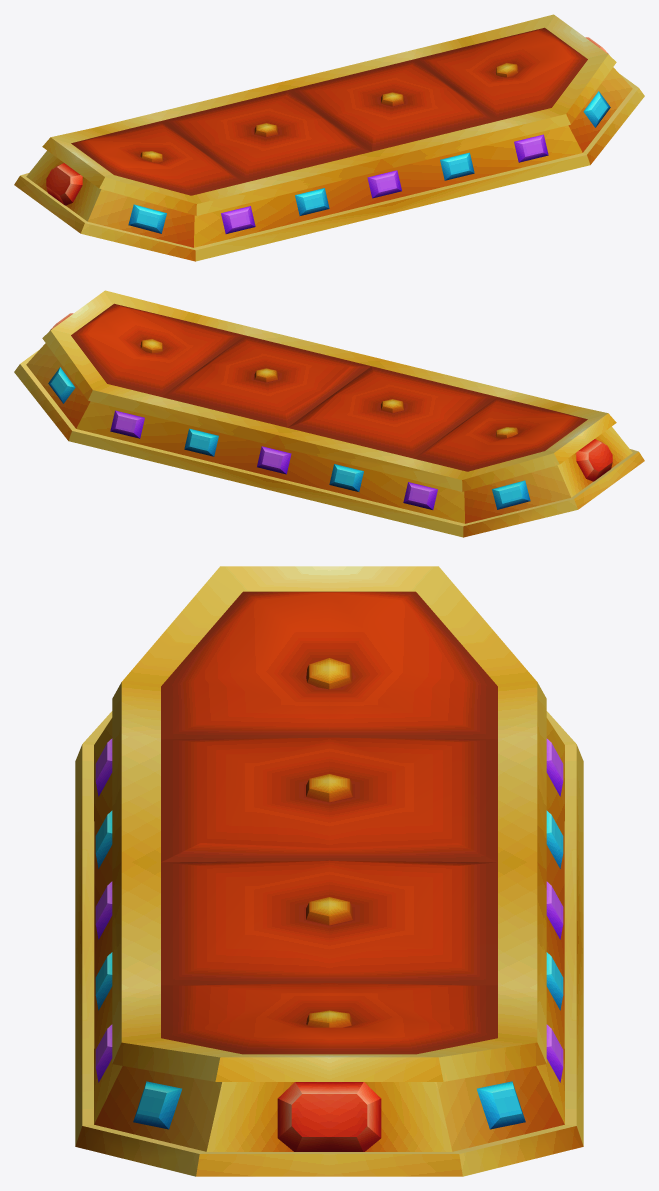
File: arabiaBoard02.glb
The picture shows the model from 3 angles, top to bottom: view 1: azimuth 30°, elevation 25°; view 2: azimuth 150°, elevation 25°; view 3: azimuth 270°, elevation 25°; orthographic projection. The views are drawn at different scales.
Parts seen in each view (by area): view 1: arabiaBoard02; view 2: arabiaBoard02; view 3: arabiaBoard02.
Boxes of the visible parts, x1,y1,x2,y2 form: arabiaBoard02: (14,14,644,261); arabiaBoard02: (14,290,644,537); arabiaBoard02: (75,566,583,1176).
Size of the model in its own units: 9.3 by 1.12 by 3.63.
1 material, 1 textured.
